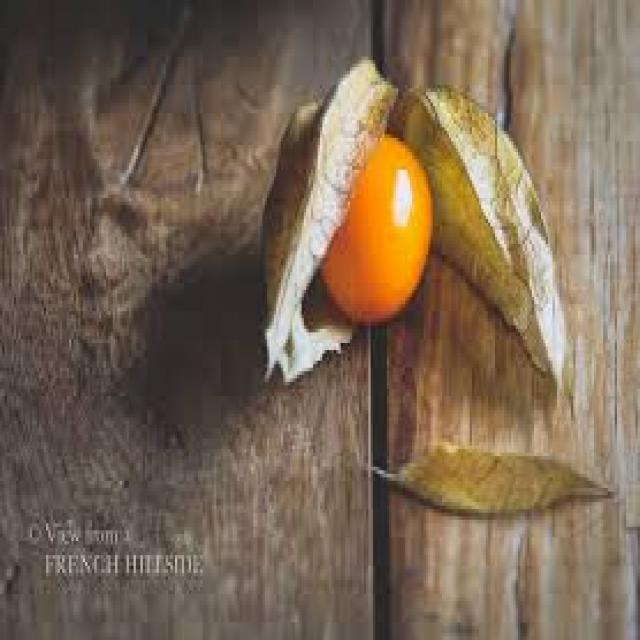organic waste: (260, 60, 571, 410), (359, 432, 622, 530), (316, 117, 435, 332)
